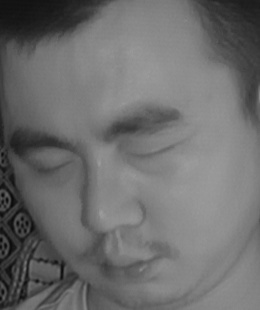blink: (122, 137, 177, 171), (29, 153, 78, 181)
mouth: (85, 235, 160, 286)
